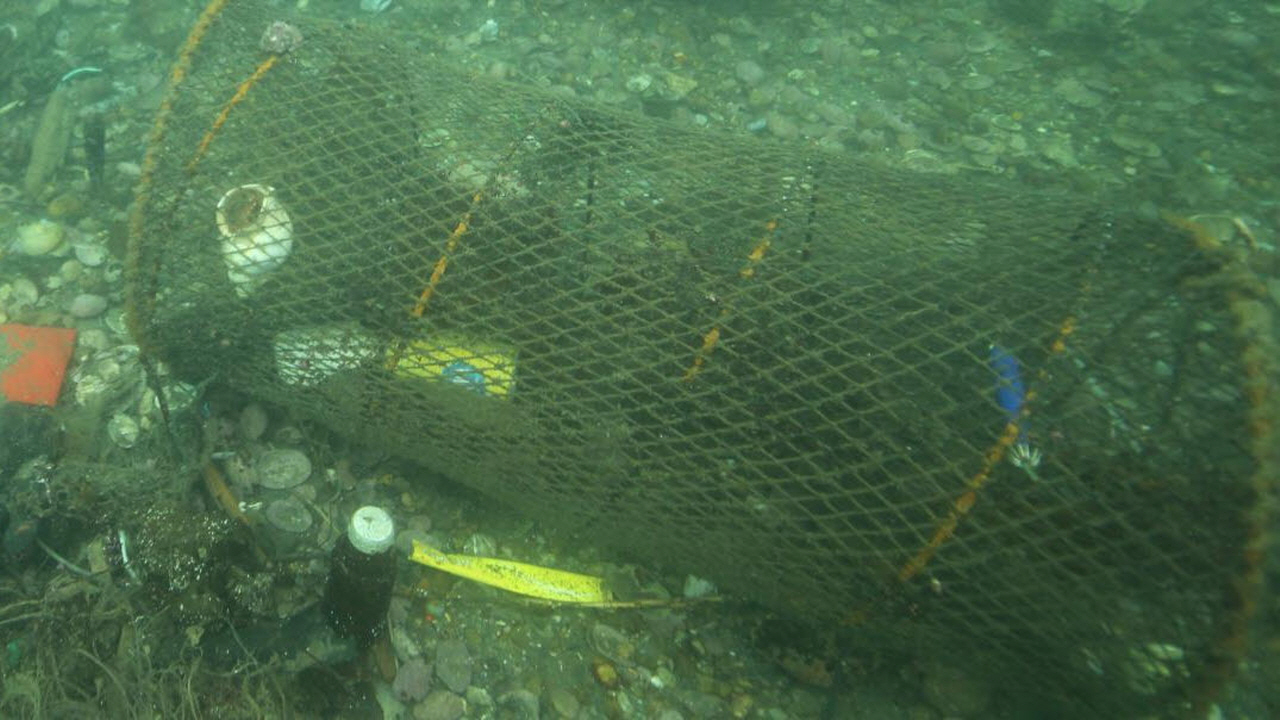spring fish trap: (120, 0, 1276, 720)
